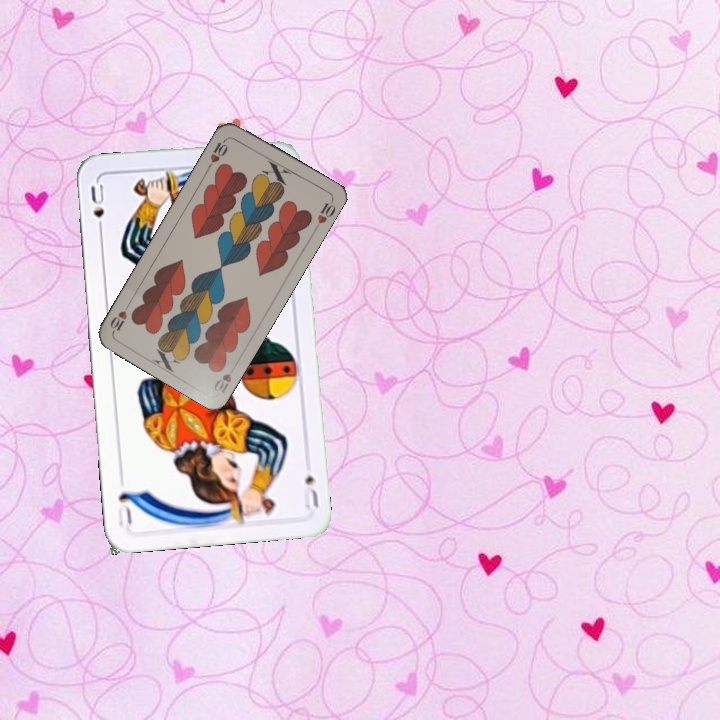H10: (210, 359, 240, 396), (204, 134, 231, 171)
SU: (87, 180, 107, 238), (300, 471, 322, 511)
